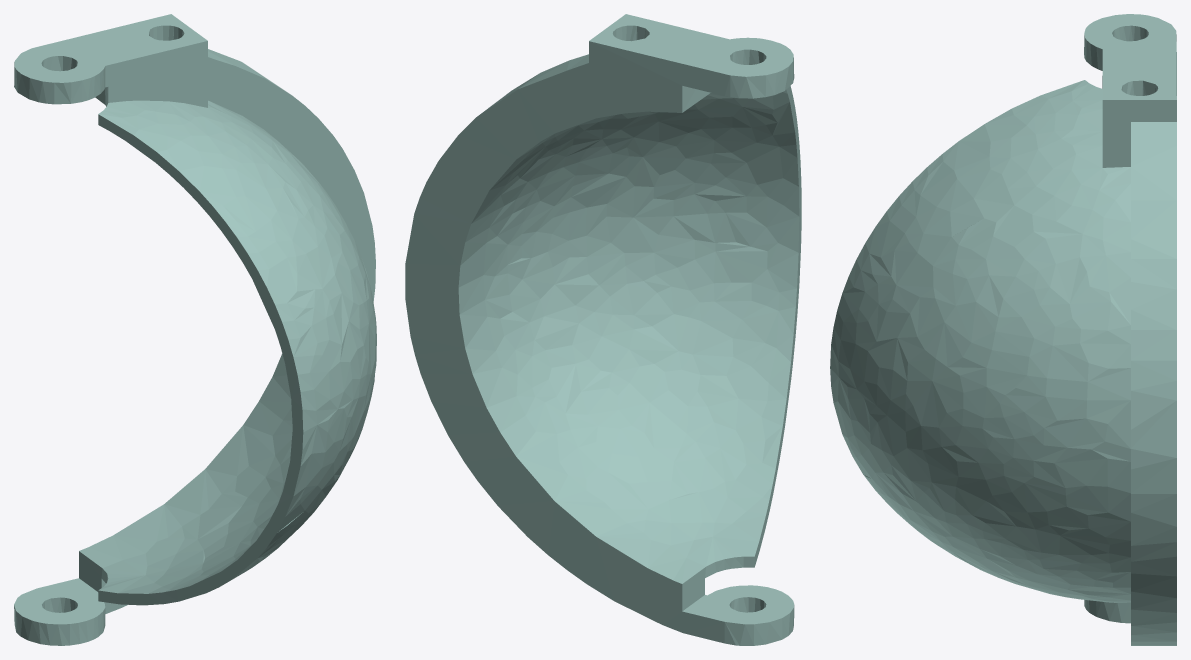
The model's file is i02_head_left_bottom_eyelid_visual.obj.balanced.glb.
3 views of the same model, side by side, from view 1: azimuth 30°, elevation 25°; view 2: azimuth 150°, elevation 25°; view 3: azimuth 270°, elevation 25° (orthographic).
Size of the model in its own units: 0.2114 by 0.3195 by 0.1761.
